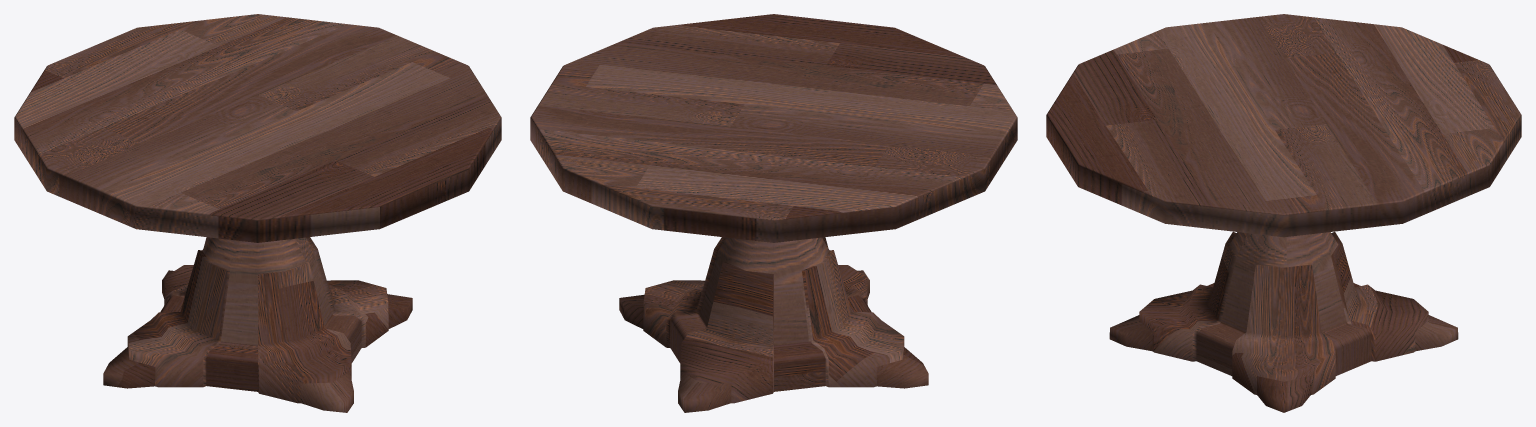
Rendered from SimpleTable.fbx.
3 views of the same model, side by side, from view 1: azimuth 30°, elevation 25°; view 2: azimuth 150°, elevation 25°; view 3: azimuth 270°, elevation 25° (orthographic). The views are drawn at different scales.
Visible parts, largest first — view 1: KitchenTable; view 2: KitchenTable; view 3: KitchenTable.
Boxes of the visible parts, left/top/right/bottom form: KitchenTable: left=14, top=14, right=501, bottom=412; KitchenTable: left=530, top=14, right=1017, bottom=412; KitchenTable: left=1046, top=14, right=1521, bottom=412.
Size of the model in its own units: 200 by 105 by 200.
